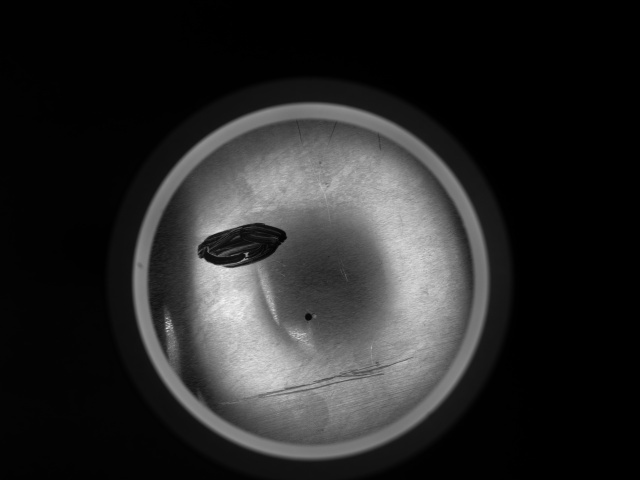ca_shang: (206, 353, 424, 403)
zang_wu: (195, 221, 289, 270)
zhen_kong: (299, 303, 316, 321)
